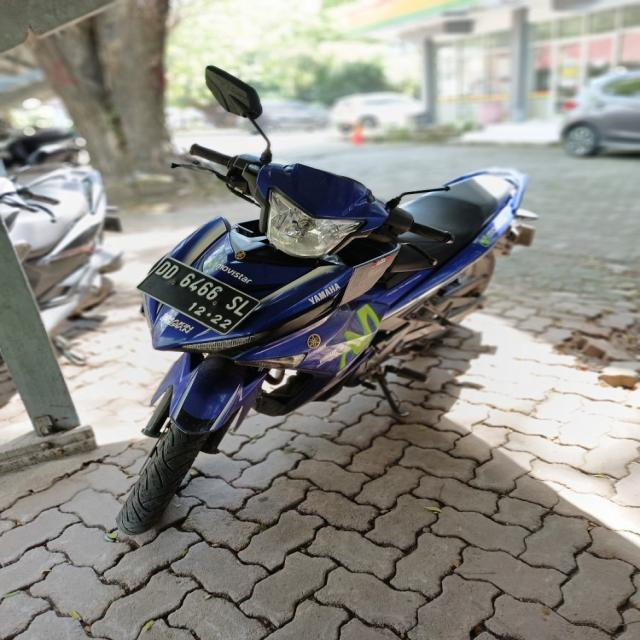plates: (147, 259, 248, 338)
